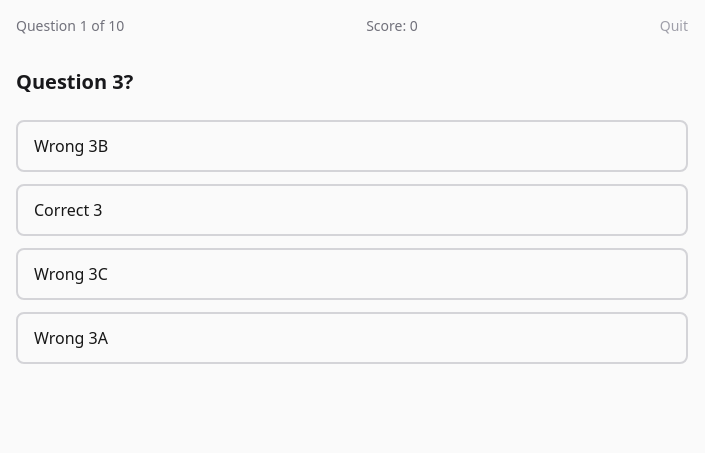
Test: QuizPage › should advance to next question when Next Question is clicked
The width and height of the screenshot is (705, 453).
Expected: the text "Question 1 of 10" is shown, x1=16 y1=16 x2=124 y2=36
Answer first question
Click the button "Correct 3": (68, 210) x1=16 y1=184 x2=688 y2=236
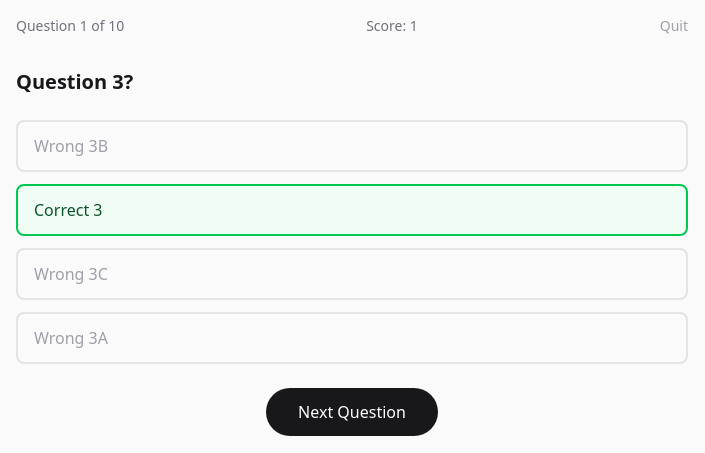
Click Next Question
Click the button "Next Question": (352, 412) x1=266 y1=388 x2=438 y2=436
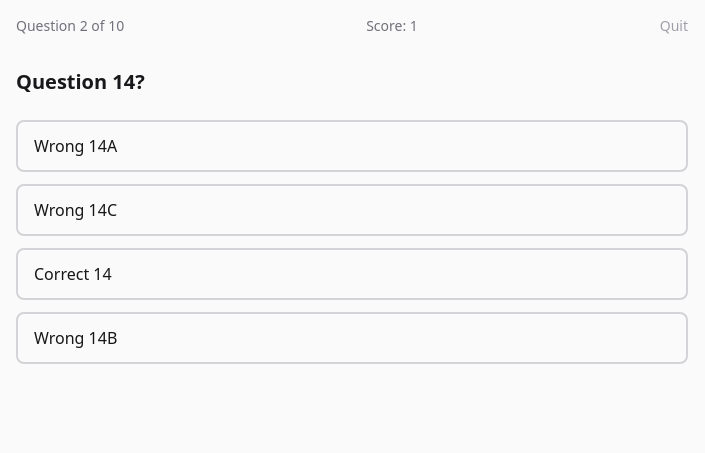
Now the text "Question 2 of 10" is shown, box x1=16 y1=16 x2=124 y2=36
